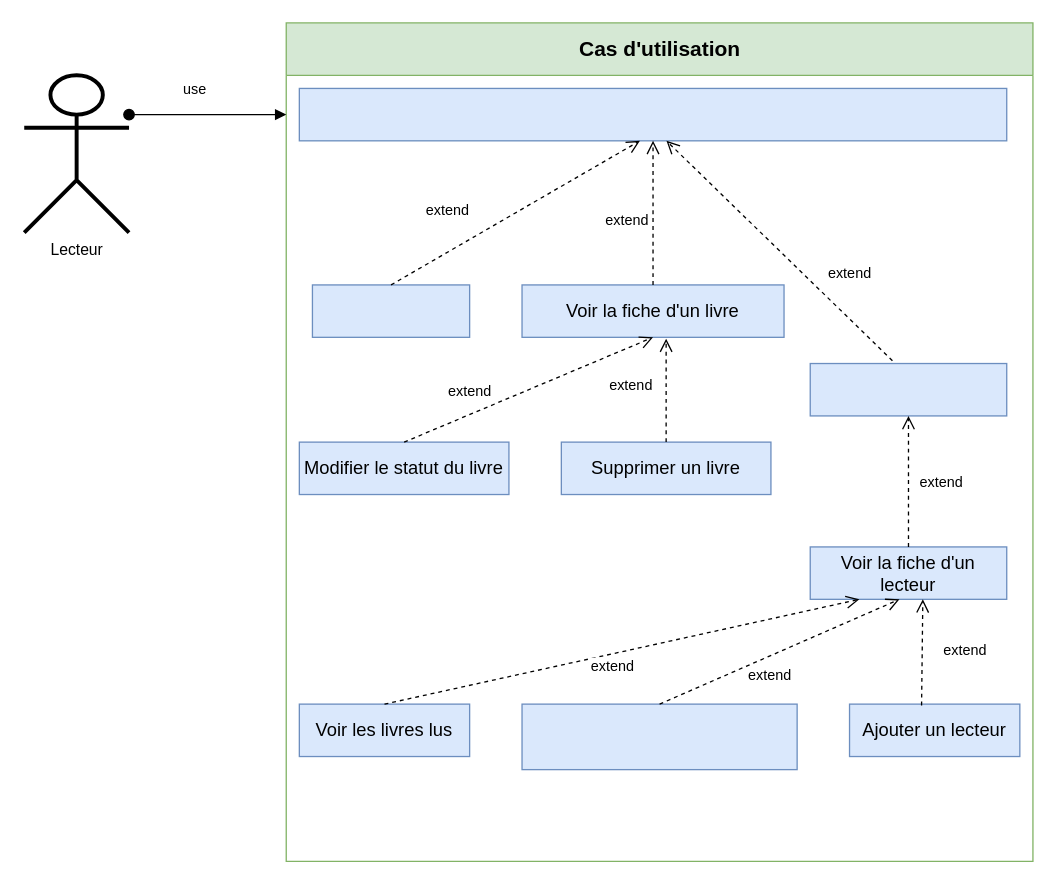
This 1056x884 diagram has some shape labels left out. Here are the shapes that lost their labels. From the top down, the centre of each, then its label:
At (652,114): "Afficher le catalogue de livres et leurs statuts".
At (390,310): "Ajouter un livre".
At (908,389): "Voir les lecteurs enregistrés".
At (659,736): "Modifier les caractéristiques du lecteur".
